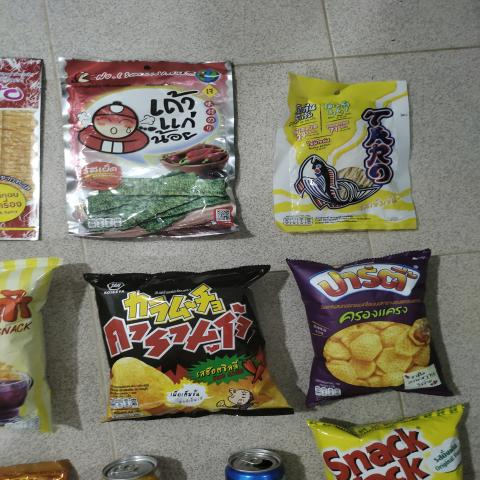karamujo: (99, 268, 269, 414)
party_purple: (303, 255, 451, 399)
taokaenoi: (64, 56, 238, 225)
taro_yellow: (278, 81, 412, 228)
